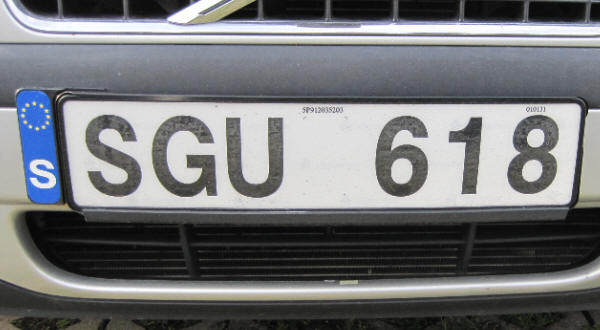license_plate: (59, 95, 585, 210)
